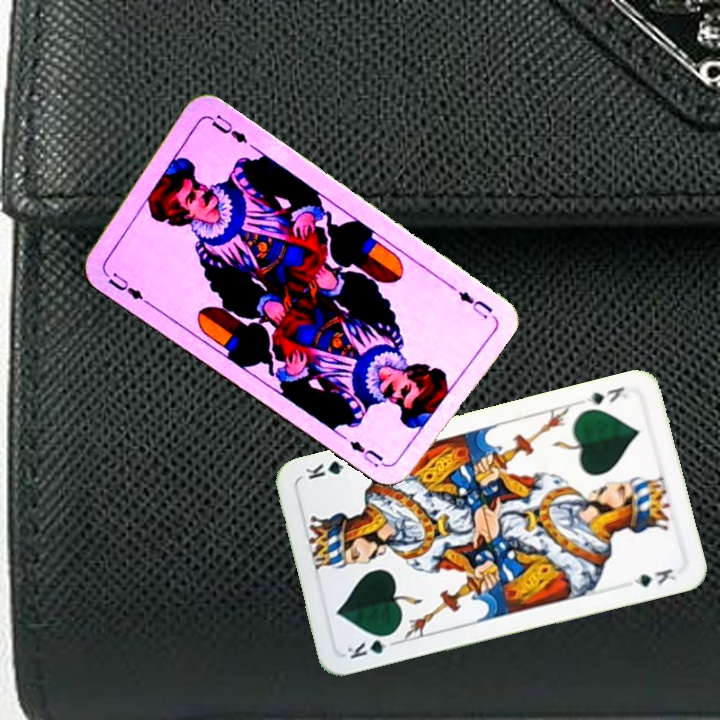EU: (444, 279, 496, 321), (104, 268, 146, 303)
GK: (343, 629, 400, 662), (582, 382, 630, 408)
